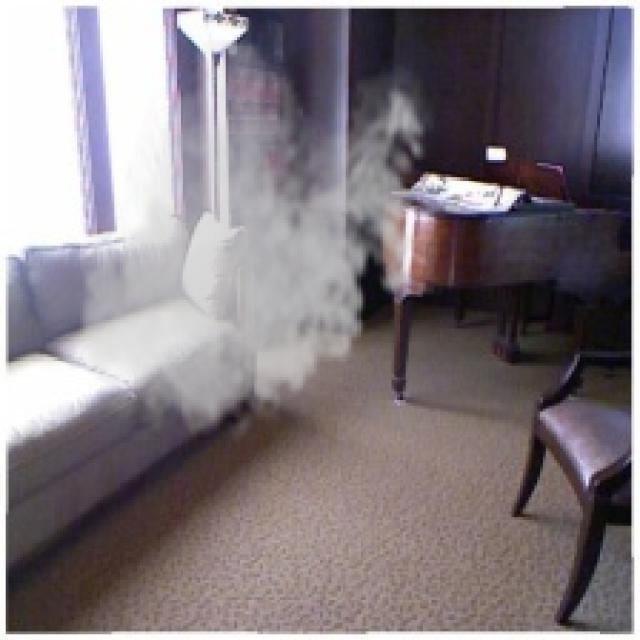Smoke: (72, 40, 437, 449)
